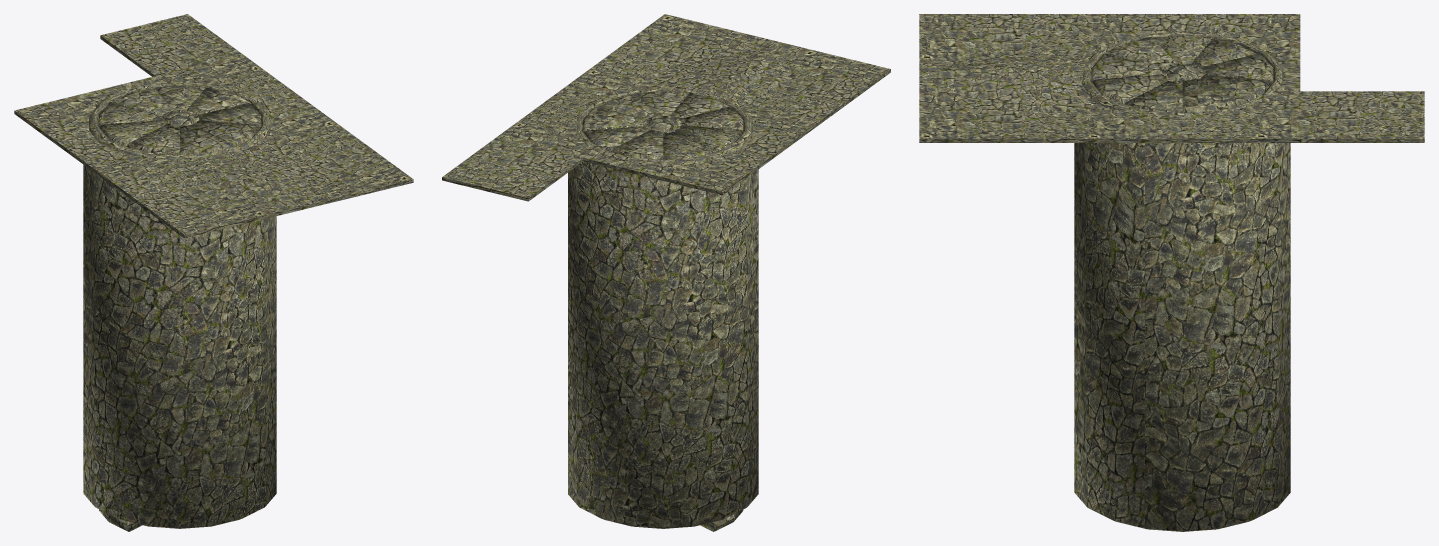
File: floorandstaircase.FBX
3 renders of one model, left to right at view 1: azimuth 30°, elevation 25°; view 2: azimuth 150°, elevation 25°; view 3: azimuth 270°, elevation 25°, orthographic. The views are drawn at different scales.
Parts seen in each view (by area): view 1: StaircaseTest003, Box140, Stair034, Stair033, Stair028, Stair031, Stair035, Stair029, Stair032, Stair036, Stair030; view 2: StaircaseTest003, Box140, Stair029, Stair035, Stair031, Stair034, Stair036, Stair030, Stair028, Stair033, Stair032; view 3: StaircaseTest003, Box140, Stair031, Stair028, Stair029, Stair033, Stair032, Stair034, Stair030, Stair035, Stair036.
Boxes of the visible parts, left/top/right/bottom form: StaircaseTest003: left=83, top=82, right=276, bottom=531; Box140: left=14, top=14, right=413, bottom=238; Stair034: left=127, top=123, right=179, bottom=154; Stair033: left=180, top=124, right=232, bottom=154; Stair028: left=193, top=120, right=260, bottom=146; Stair031: left=186, top=86, right=251, bottom=115; Stair035: left=99, top=120, right=165, bottom=146; Stair029: left=108, top=87, right=173, bottom=115; Stair032: left=197, top=103, right=261, bottom=126; Stair036: left=99, top=103, right=162, bottom=126; Stair030: left=154, top=86, right=205, bottom=110; StaircaseTest003: left=568, top=87, right=758, bottom=531; Box140: left=442, top=14, right=890, bottom=201; Stair029: left=611, top=129, right=663, bottom=159; Stair035: left=675, top=125, right=742, bottom=152; Stair031: left=583, top=107, right=646, bottom=132; Stair034: left=679, top=106, right=743, bottom=131; Stair036: left=663, top=131, right=713, bottom=159; Stair030: left=584, top=126, right=649, bottom=151; Stair028: left=636, top=91, right=688, bottom=116; Stair033: left=670, top=93, right=729, bottom=119; Stair032: left=598, top=94, right=655, bottom=119; StaircaseTest003: left=1074, top=31, right=1290, bottom=531; Box140: left=919, top=14, right=1424, bottom=142; Stair031: left=1182, top=78, right=1241, bottom=112; Stair028: left=1092, top=74, right=1168, bottom=104; Stair029: left=1201, top=53, right=1273, bottom=82; Stair033: left=1091, top=53, right=1163, bottom=81; Stair032: left=1124, top=81, right=1182, bottom=112; Stair034: left=1102, top=36, right=1175, bottom=67; Stair030: left=1198, top=75, right=1272, bottom=103; Stair035: left=1153, top=35, right=1213, bottom=63; Stair036: left=1191, top=38, right=1256, bottom=67.
Size of the model in its own units: 380 by 622 by 650.
